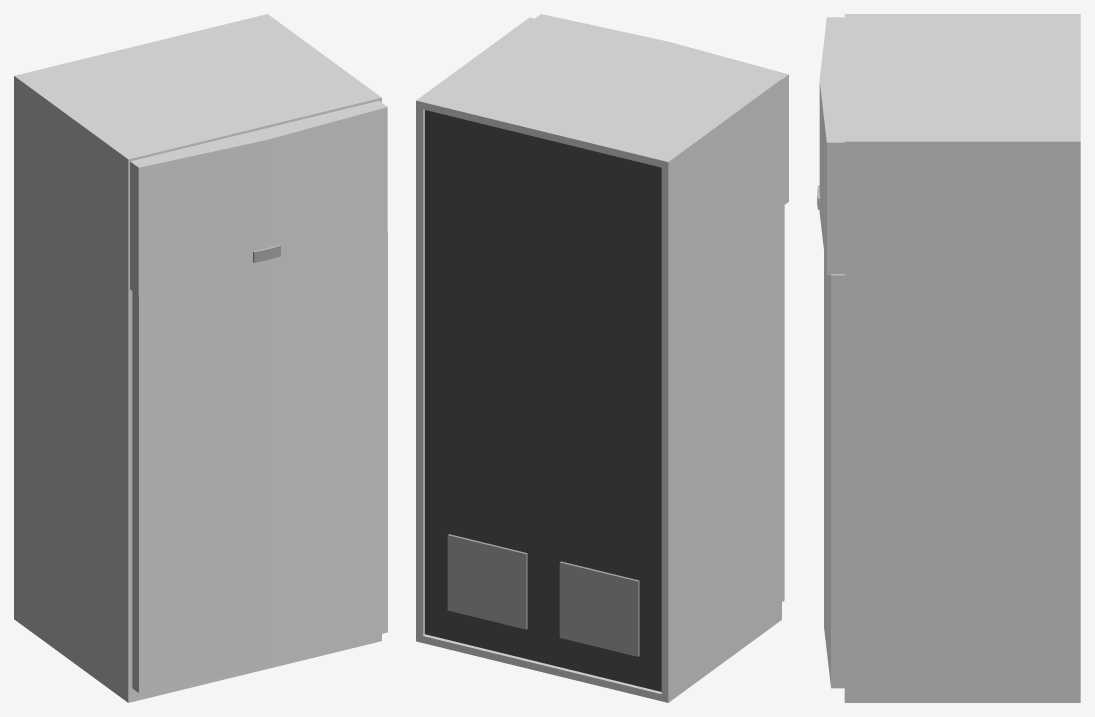
Rendered from fridge.glb.
The picture shows the model from 3 angles, left to right: view 1: azimuth 30°, elevation 25°; view 2: azimuth 150°, elevation 25°; view 3: azimuth 270°, elevation 25°; orthographic projection. The views are drawn at different scales.
Parts seen in each view (by area): view 1: Fridge (Main Door), Fridge, Fridge (Freezer Door); view 2: Fridge, Fridge (Freezer Door), Fridge (Main Door); view 3: Fridge, Fridge (Main Door), Fridge (Freezer Door).
Boxes of the visible parts, x1,y1,x2,y2 form: Fridge (Main Door): [132, 232, 387, 692]; Fridge: [14, 14, 381, 702]; Fridge (Freezer Door): [130, 101, 387, 295]; Fridge: [416, 17, 781, 702]; Fridge (Freezer Door): [535, 14, 788, 206]; Fridge (Main Door): [782, 205, 784, 601]; Fridge: [844, 14, 1080, 702]; Fridge (Main Door): [824, 252, 844, 688]; Fridge (Freezer Door): [817, 17, 844, 274].
Size of the model in its own units: 0.9276 by 1.9 by 0.8089.
Materials: 3 (3 with a texture image).
